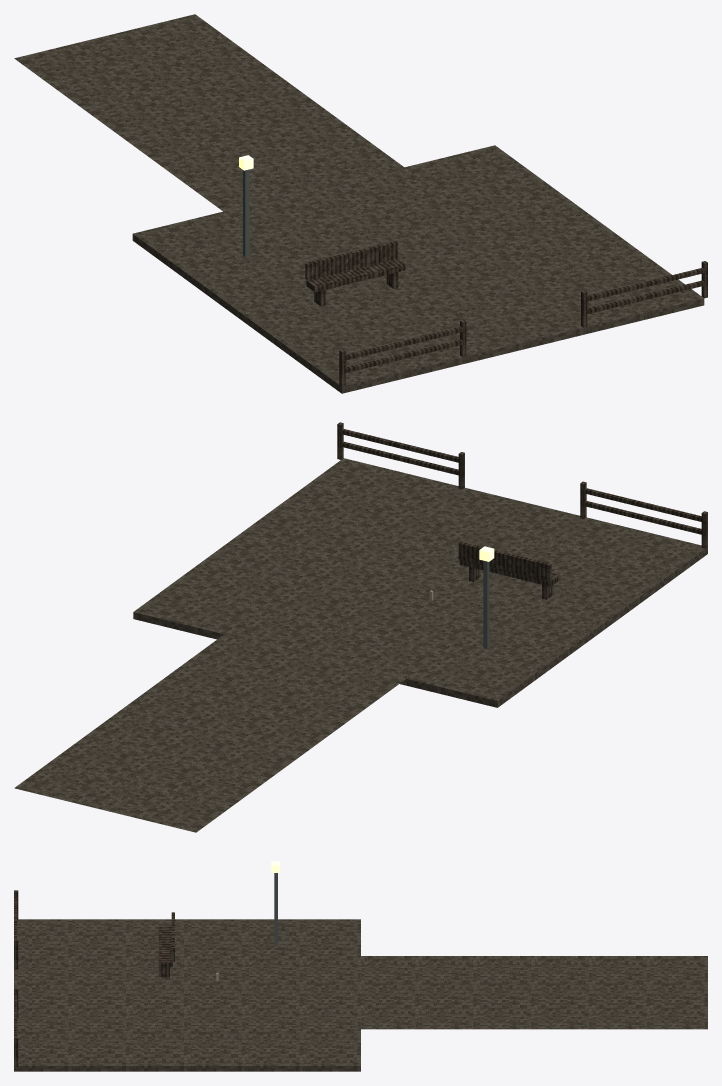
Rendered from PH03_SharedStart_Bellevue.fbx.
3 renders of one model, top to bottom at view 1: azimuth 30°, elevation 25°; view 2: azimuth 150°, elevation 25°; view 3: azimuth 270°, elevation 25°, orthographic. The views are drawn at different scales.
Visible parts, largest first — view 1: Bellevue_IntroPlatform, Shared_SafeApproach, BenchBack, Bellevue_BenchSeat, FenceRail.001, FenceRail.002, FenceRail, FenceRail.003, LampPost; view 2: Bellevue_IntroPlatform, Shared_SafeApproach, BenchBack, FenceRail, FenceRail.001, FenceRail.003, FenceRail.002; view 3: Bellevue_IntroPlatform, Shared_SafeApproach, Bellevue_BenchSeat.
Boxes of the visible parts, box(x1,y1,x2,y2) form: Bellevue_IntroPlatform: box(132, 145, 704, 393); Shared_SafeApproach: box(14, 14, 403, 211); BenchBack: box(305, 241, 397, 280); Bellevue_BenchSeat: box(306, 258, 405, 292); FenceRail.001: box(340, 327, 462, 361); FenceRail.002: box(583, 280, 704, 314); FenceRail: box(340, 339, 462, 373); FenceRail.003: box(584, 268, 704, 301); LampPost: box(243, 169, 249, 256); Bellevue_IntroPlatform: box(133, 458, 707, 707); Shared_SafeApproach: box(14, 634, 405, 832); BenchBack: box(458, 542, 551, 581); FenceRail: box(584, 501, 707, 535); FenceRail.001: box(584, 488, 707, 522); FenceRail.003: box(341, 429, 463, 462); FenceRail.002: box(341, 441, 458, 475); Bellevue_IntroPlatform: box(14, 919, 360, 1071); Shared_SafeApproach: box(361, 956, 707, 1029); Bellevue_BenchSeat: box(158, 926, 172, 967).
Bounding box in the file's own units: 1212 × 332 × 2400.
5 materials, 2 textured.
